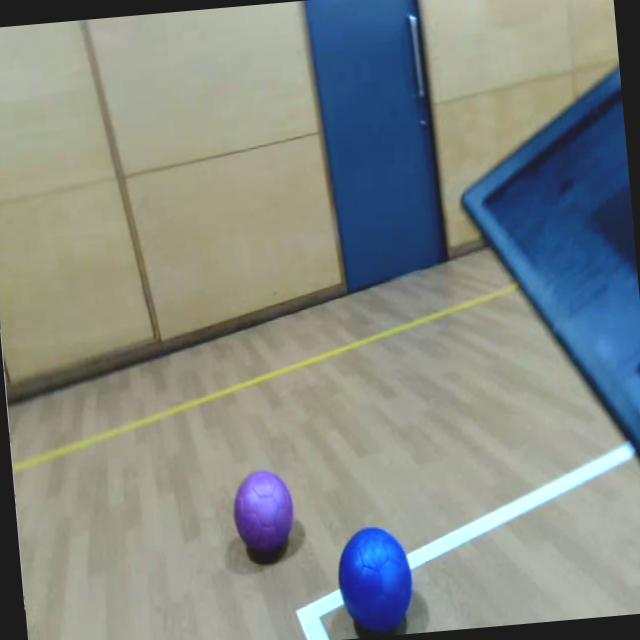blue_ball: (336, 523, 416, 628)
purple_ball: (230, 466, 296, 556)
